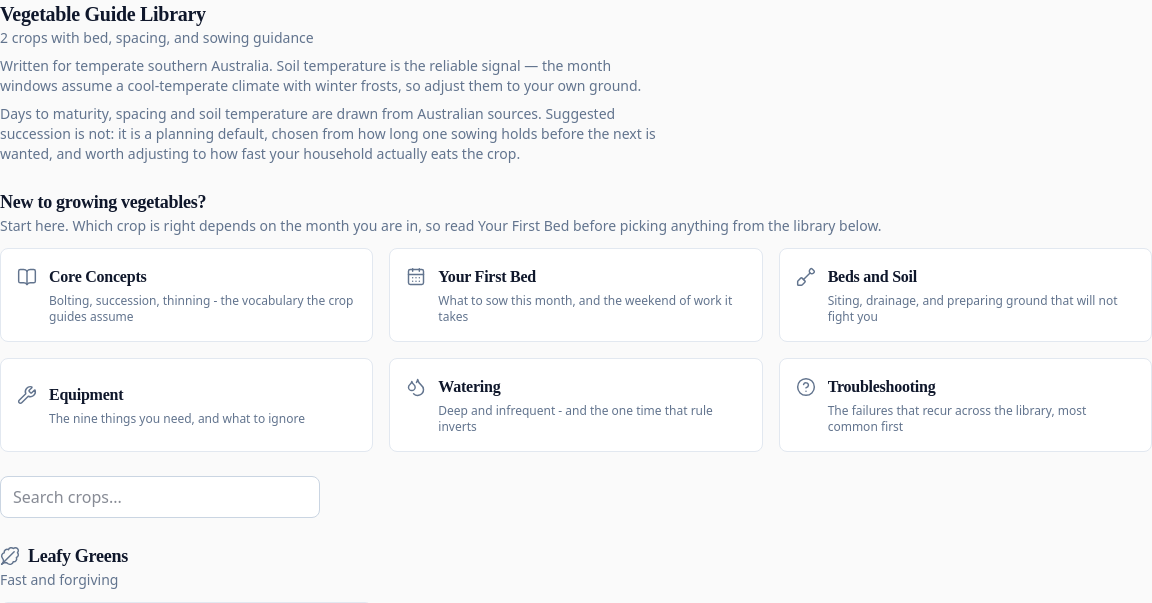
Scenario: VegetableGuideLibrary › clicking a getting-started card opens it
Expected: the heading "Leafy Greens" is shown, [0,546,128,566]
What coordinates should you click on to do the following:
click the button "Your First Bed"
I would click on:
 (576, 295)
Its box is [389,248,763,342].
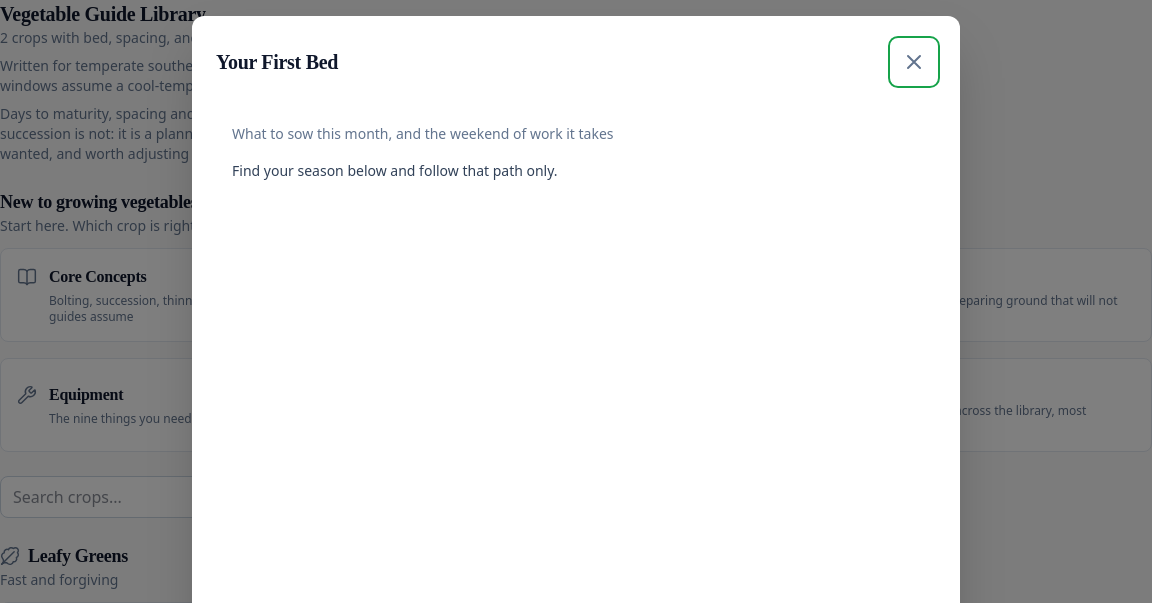
Expected: the text "Find your season below and follow that path only." is shown, [232,161,558,180]
